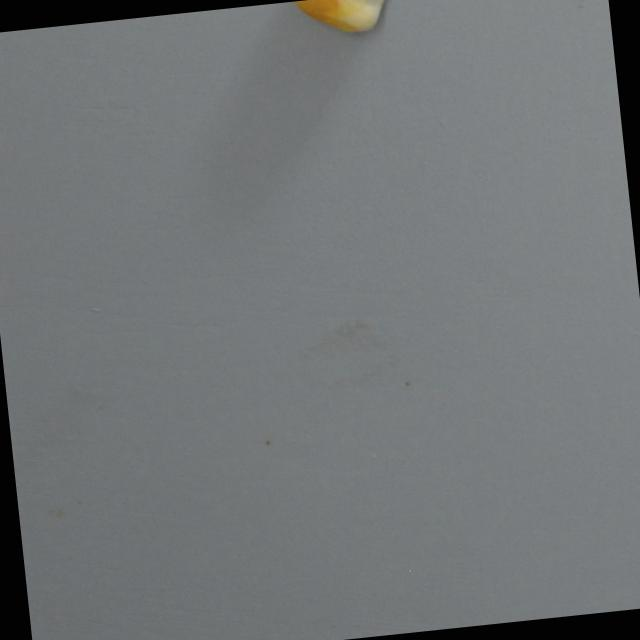no_desgerminado: (288, 0, 410, 44)
